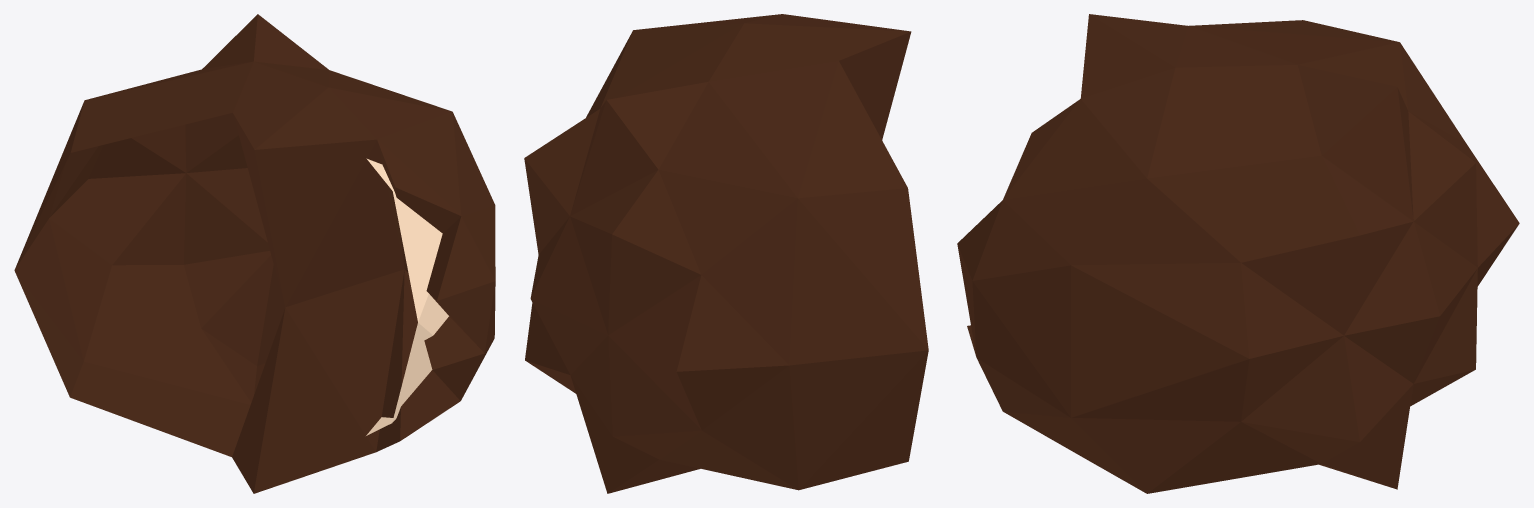
The model's file is hair10.glb.
The picture shows the model from 3 angles, left to right: view 1: azimuth 30°, elevation 25°; view 2: azimuth 150°, elevation 25°; view 3: azimuth 270°, elevation 25°; orthographic projection. The views are drawn at different scales.
Visible parts, largest first — view 1: tomodachi-2026-03-10-20-23-53-270, tomodachi-2026-03-10-20-23-53-270.008; view 2: tomodachi-2026-03-10-20-23-53-270; view 3: tomodachi-2026-03-10-20-23-53-270.
Boxes of the visible parts, bbox=[...] form: tomodachi-2026-03-10-20-23-53-270: bbox=[14, 14, 495, 493]; tomodachi-2026-03-10-20-23-53-270.008: bbox=[366, 158, 448, 435]; tomodachi-2026-03-10-20-23-53-270: bbox=[524, 14, 928, 493]; tomodachi-2026-03-10-20-23-53-270: bbox=[957, 14, 1519, 493].
Bounding box in the file's own units: 1.24 × 1.09 × 1.34.
2 materials, 2 textured.
